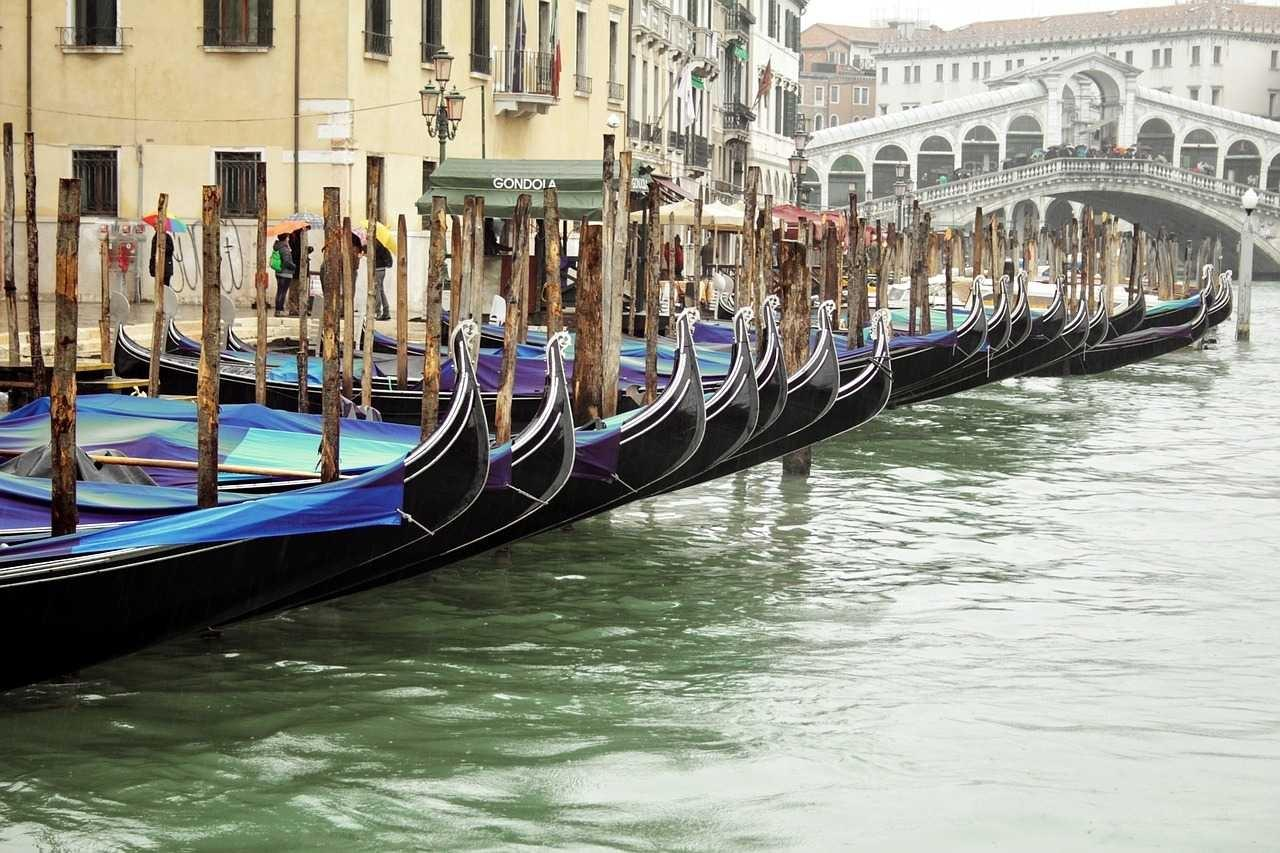kayak: (1, 319, 573, 666), (1, 387, 432, 537), (532, 313, 728, 485), (878, 272, 1095, 405), (115, 317, 328, 407), (834, 272, 989, 386), (1079, 267, 1231, 372), (688, 304, 767, 466), (757, 295, 841, 437), (1251, 223, 1280, 272)
